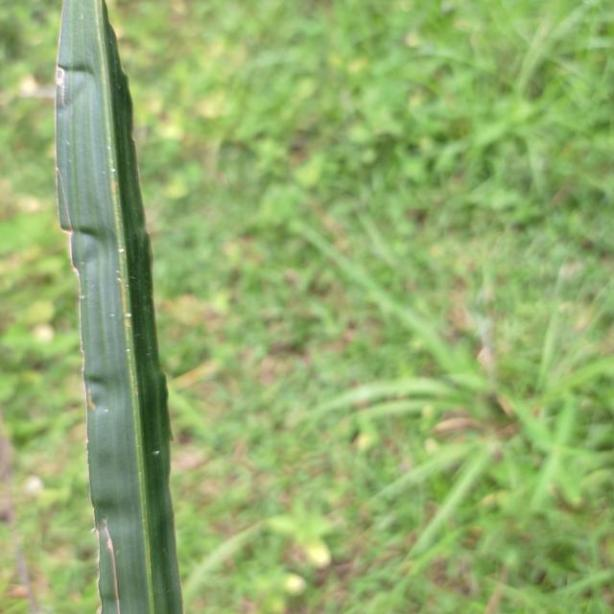Boron: (54, 0, 186, 614)
